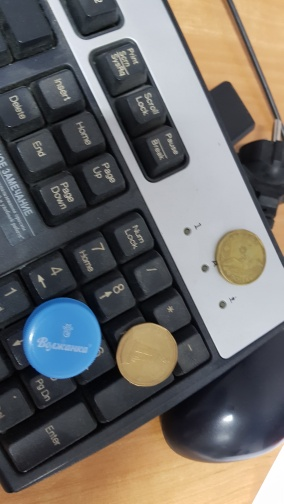coin: (115, 322, 178, 388), (214, 228, 267, 285)
